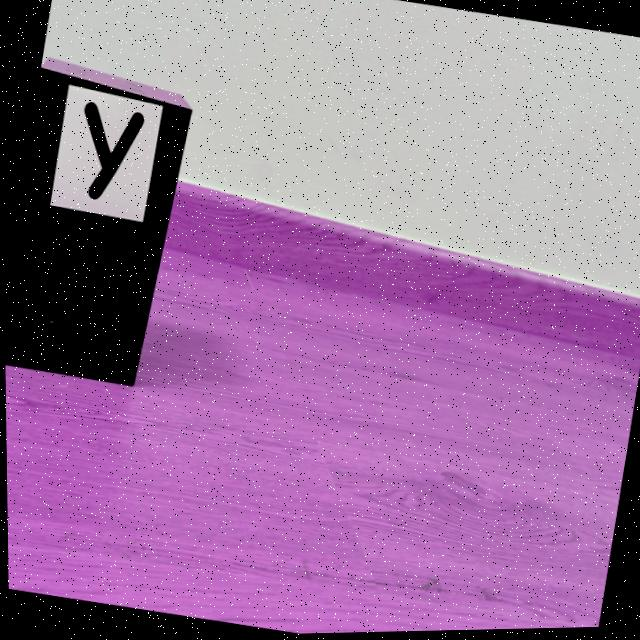Y: (83, 102, 143, 200)
